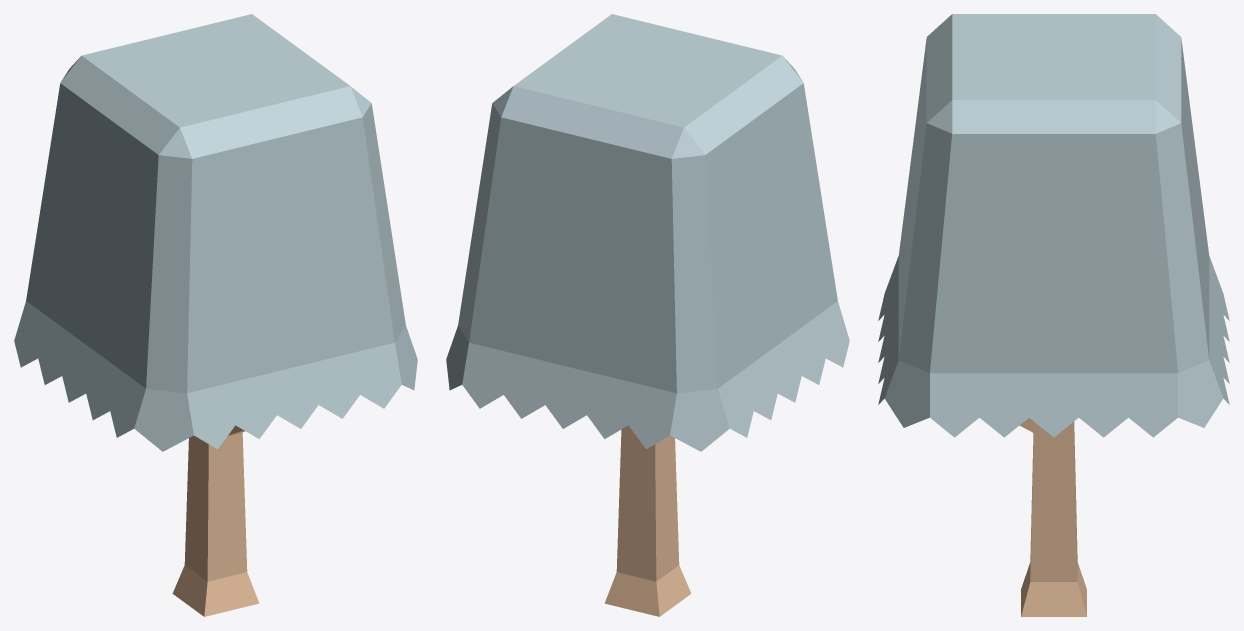
Rendered from treesnow.glb.
3 views of the same model, side by side, from view 1: azimuth 30°, elevation 25°; view 2: azimuth 150°, elevation 25°; view 3: azimuth 270°, elevation 25° (orthographic). The views are drawn at different scales.
Visible parts, largest first — view 1: treeSnow(Clone); view 2: treeSnow(Clone); view 3: treeSnow(Clone).
Part boxes in pixels (x1,y1,x2,y2): treeSnow(Clone): (14, 14, 417, 616); treeSnow(Clone): (446, 14, 849, 616); treeSnow(Clone): (878, 14, 1229, 616).
Bounding box in the file's own units: 1.13 × 1.94 × 1.13.
